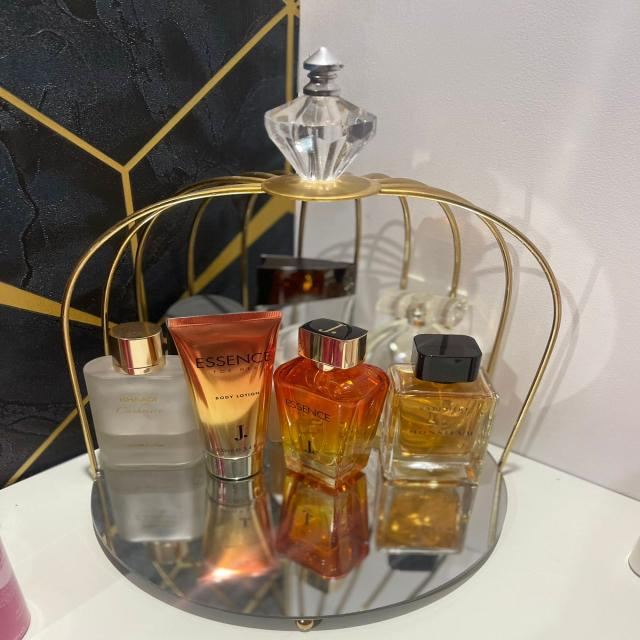foundation: (175, 308, 287, 514)
perfume: (290, 303, 505, 480)
